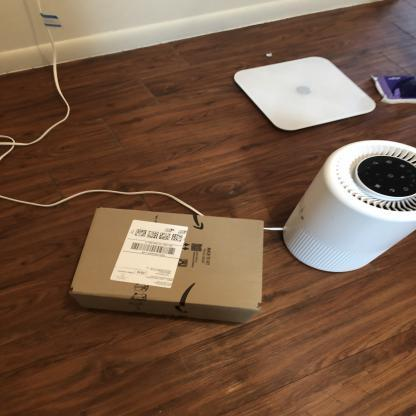package: (67, 202, 272, 331)
